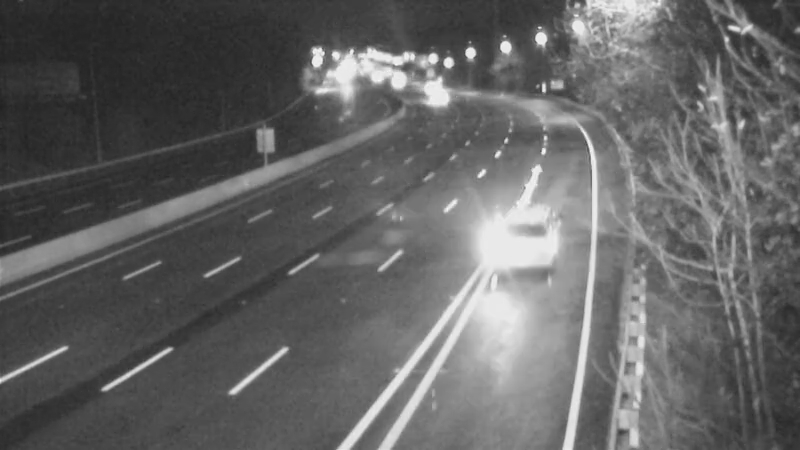vehicle: (494, 197, 574, 277), (406, 60, 456, 110), (415, 76, 465, 126)
